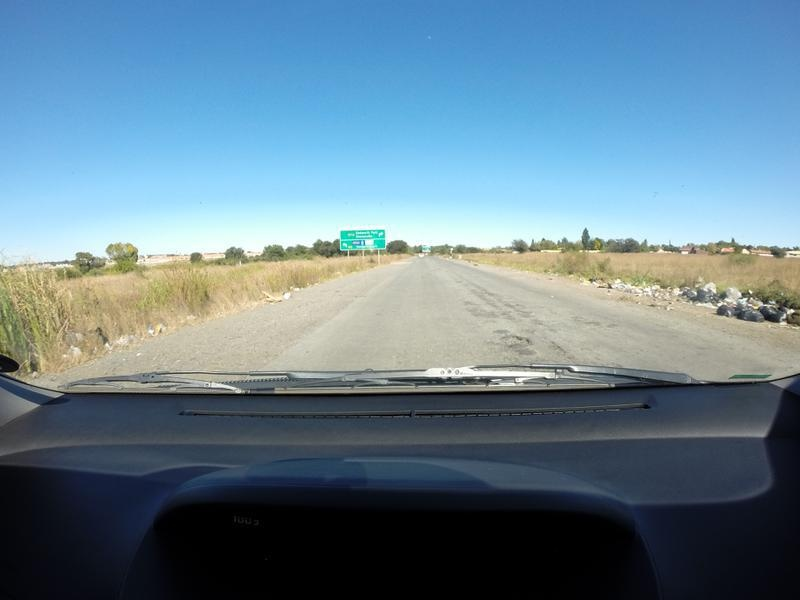pothole: (496, 323, 541, 354)
